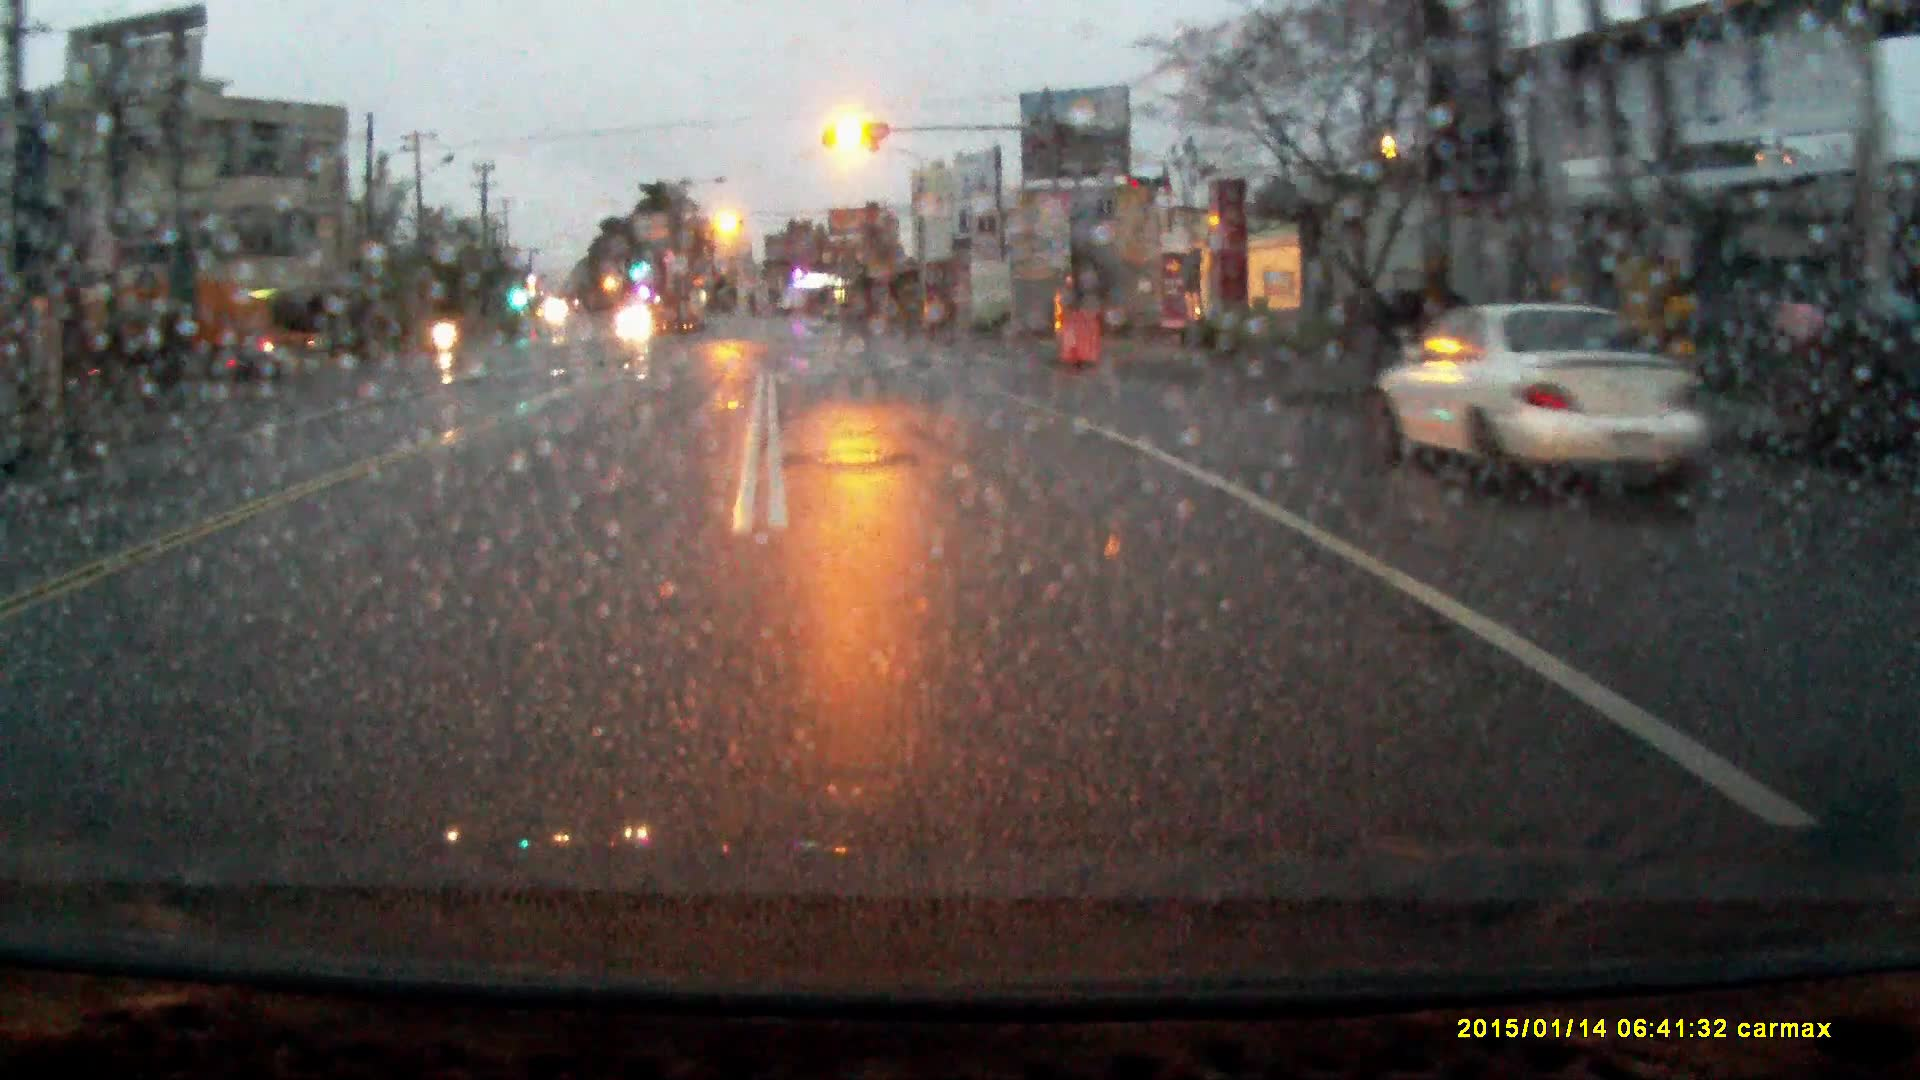rider: (428, 300, 464, 361)
vehicle: (1372, 302, 1745, 503), (48, 259, 291, 372), (617, 301, 654, 333)
